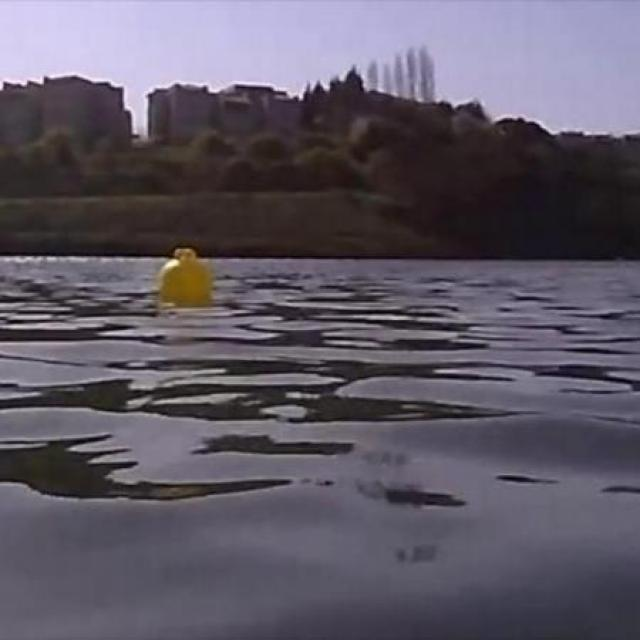buoy: (156, 246, 214, 306)
